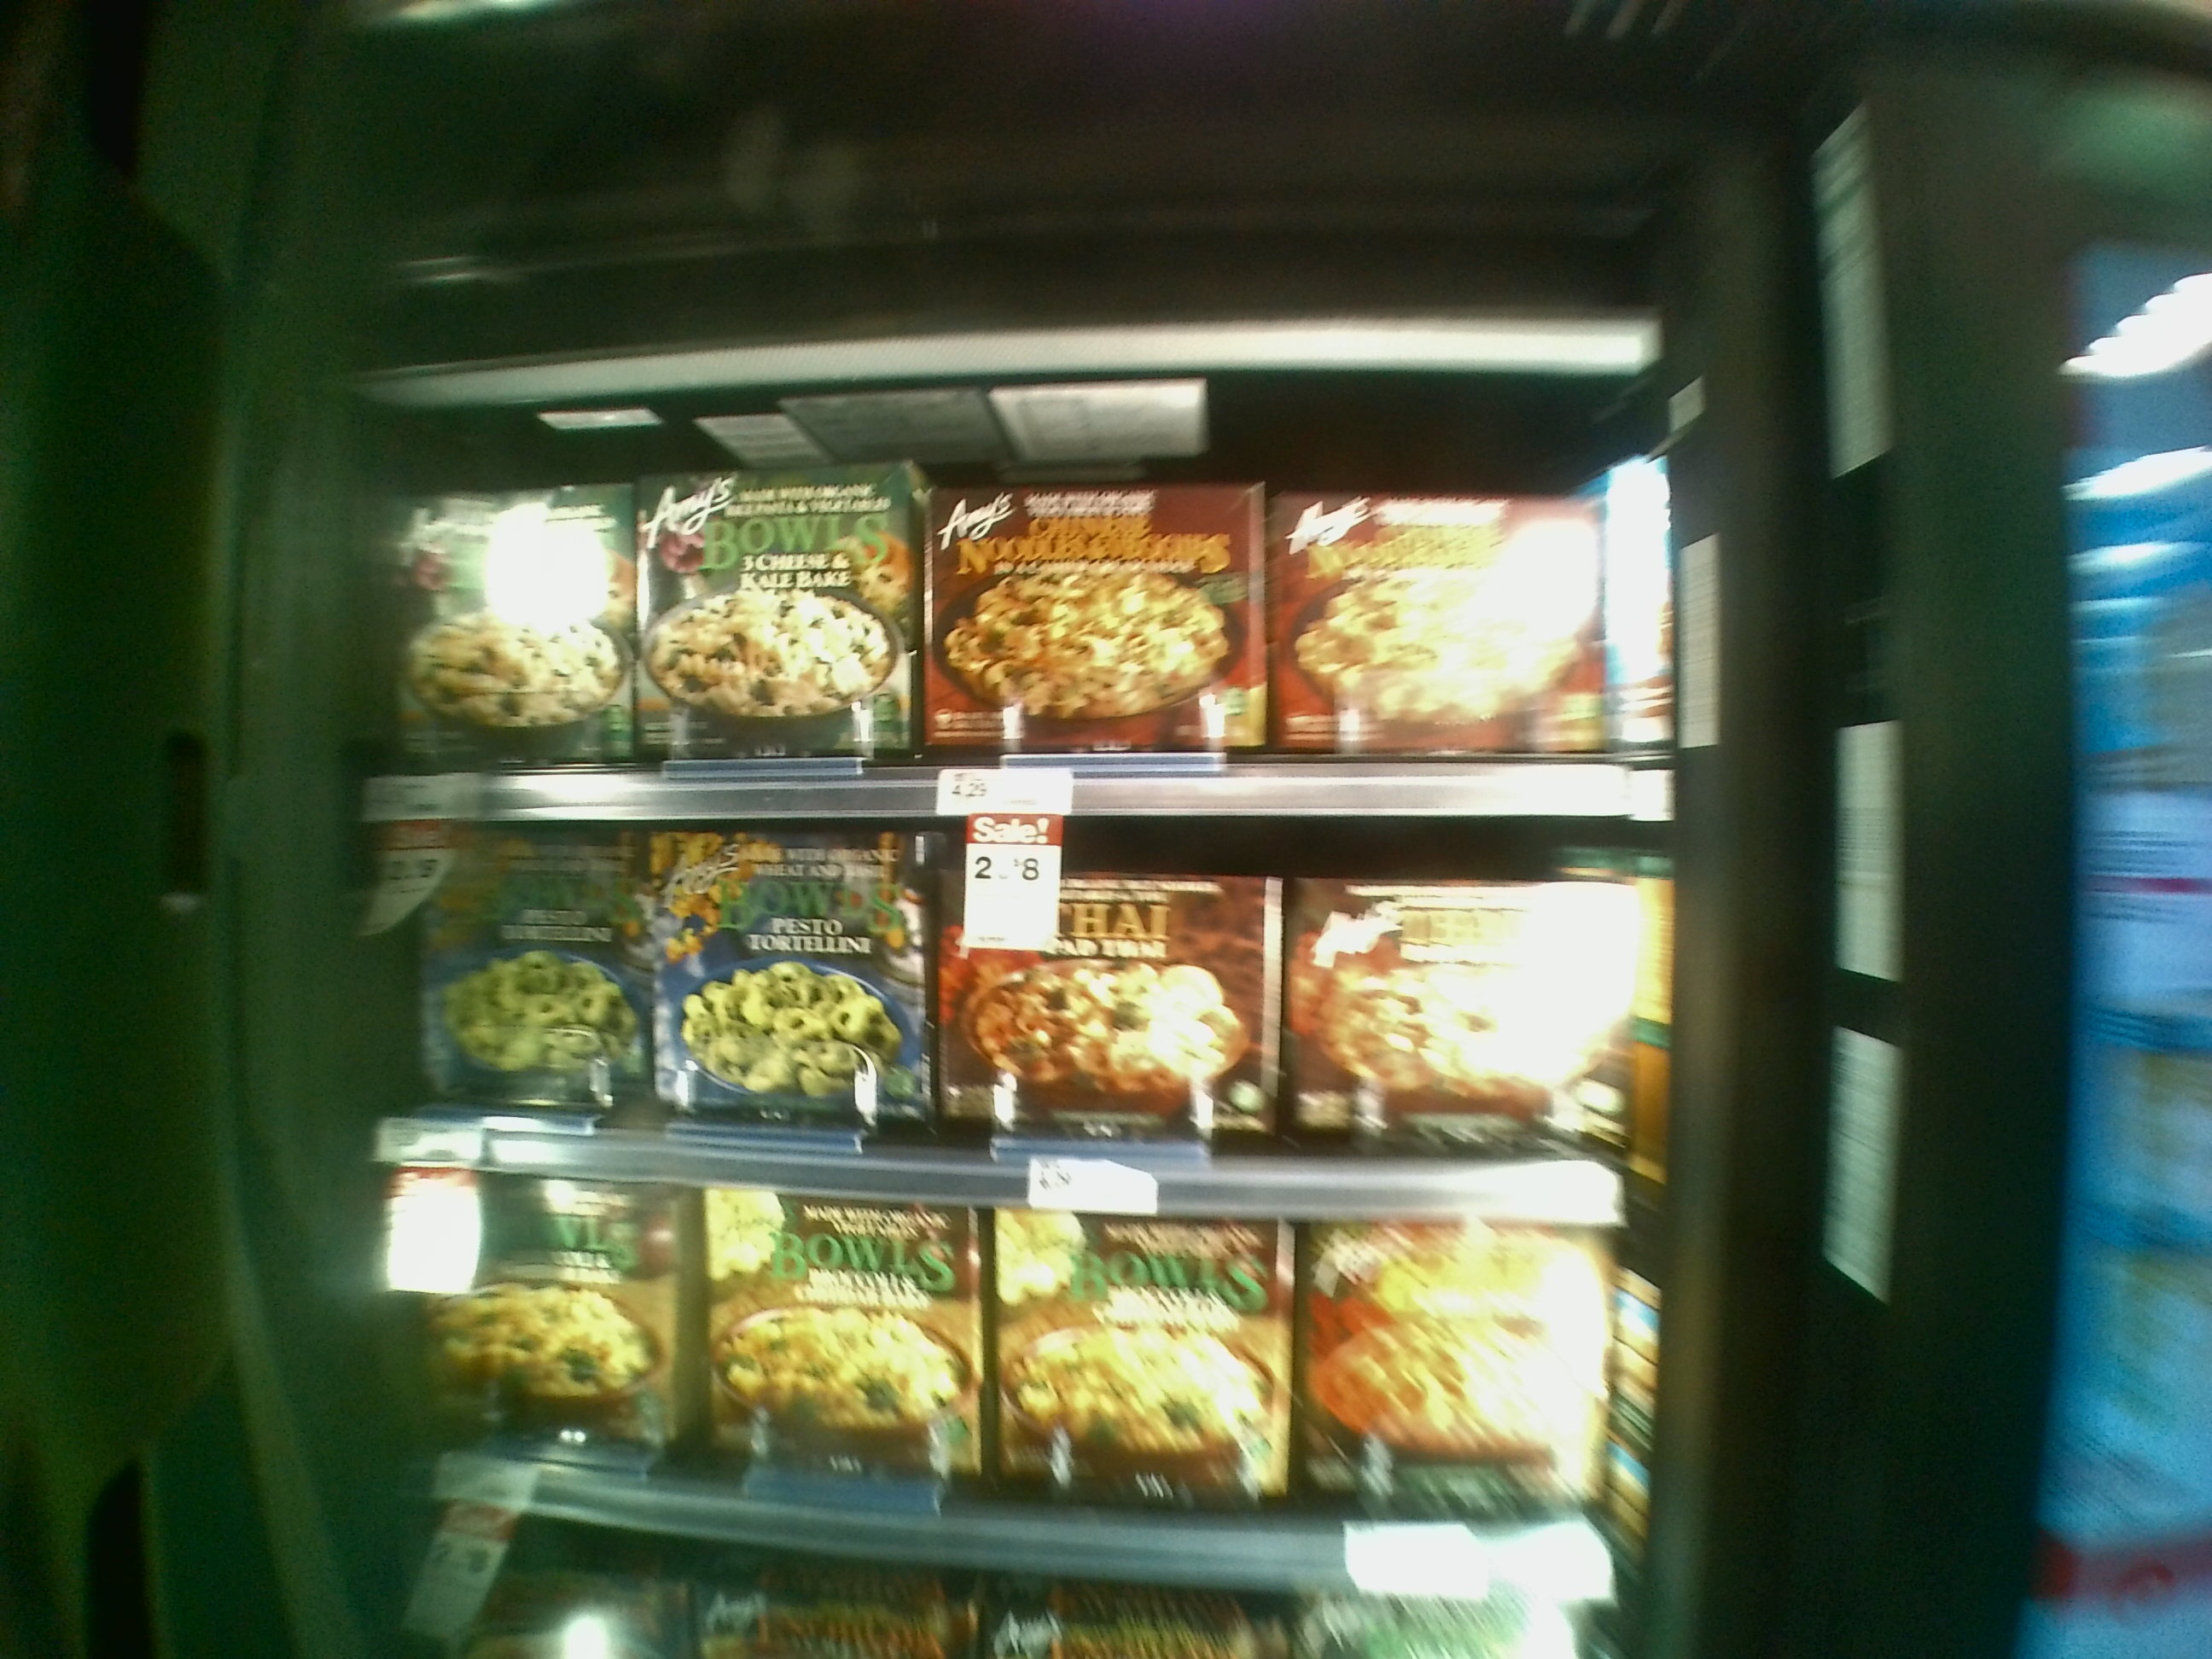shelf: (340, 390, 1677, 814), (362, 824, 1672, 1194), (388, 1183, 1651, 1561)
